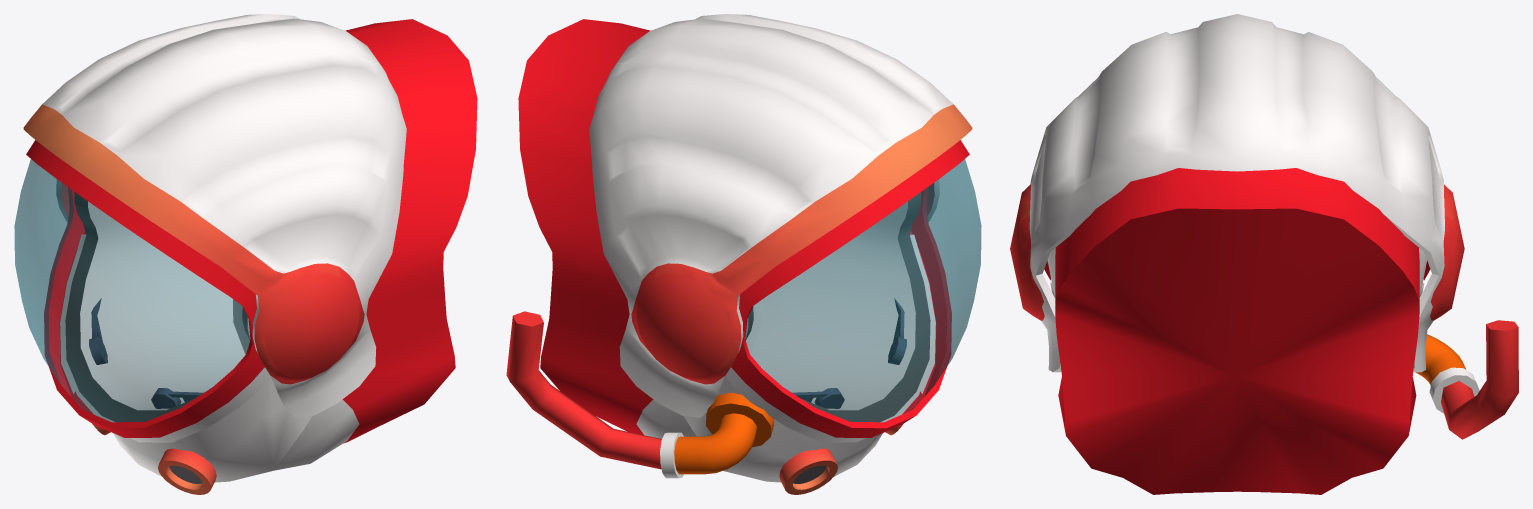
Rendered from skin_astronaut001.fbx.
3 renders of one model, left to right at view 1: azimuth 30°, elevation 25°; view 2: azimuth 150°, elevation 25°; view 3: azimuth 270°, elevation 25°, orthographic. The views are drawn at different scales.
Parts seen in each view (by area): view 1: skin_astronaut001; view 2: skin_astronaut001; view 3: skin_astronaut001.
Part boxes in pixels (x1,y1,x2,y2): skin_astronaut001: [14, 14, 477, 494]; skin_astronaut001: [506, 14, 981, 494]; skin_astronaut001: [1010, 14, 1518, 494].
Bounding box in the file's own units: 87.14 × 84.1 × 90.61.
Materials: 3 (2 with a texture image).
